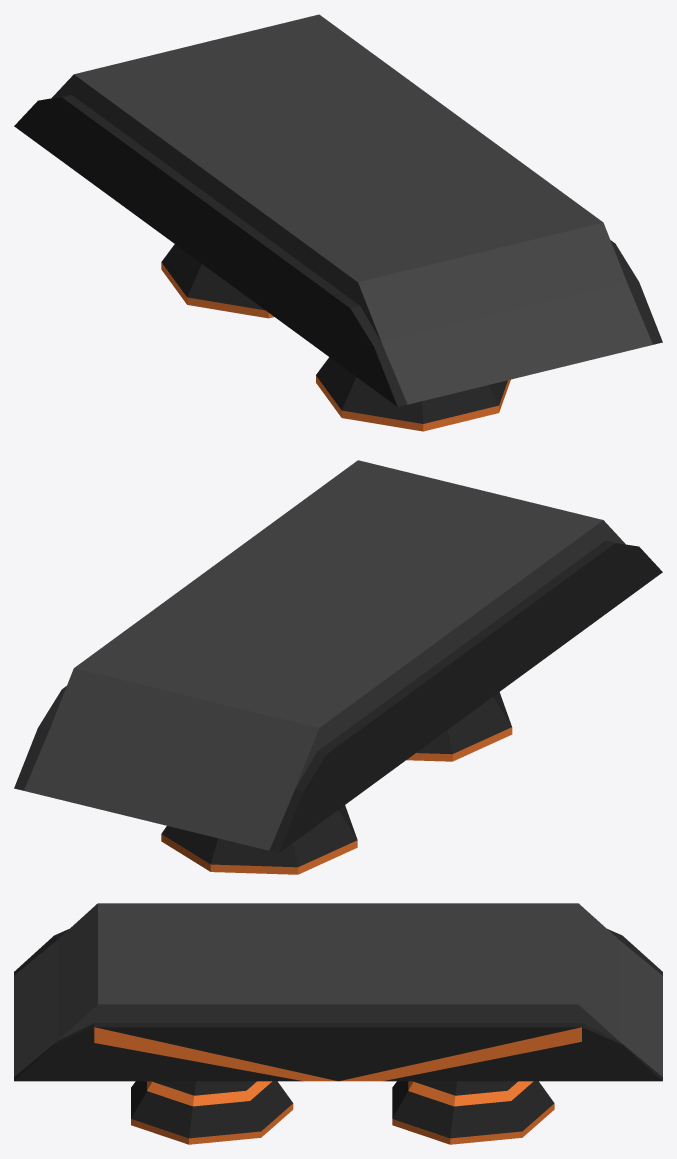
The model's file is model-scenario-plataform-typeA-medium.fbx.
3 views of the same model, one above another, from view 1: azimuth 30°, elevation 25°; view 2: azimuth 150°, elevation 25°; view 3: azimuth 270°, elevation 25° (orthographic). The views are drawn at different scales.
Parts seen in each view (by area): view 1: mesh; view 2: mesh; view 3: mesh.
Part boxes in pixels (x1,y1,x2,y2): mesh: [14, 14, 662, 431]; mesh: [14, 460, 662, 874]; mesh: [14, 903, 662, 1144].
Size of the model in its own units: 5.39 by 2.15 by 1.43.
